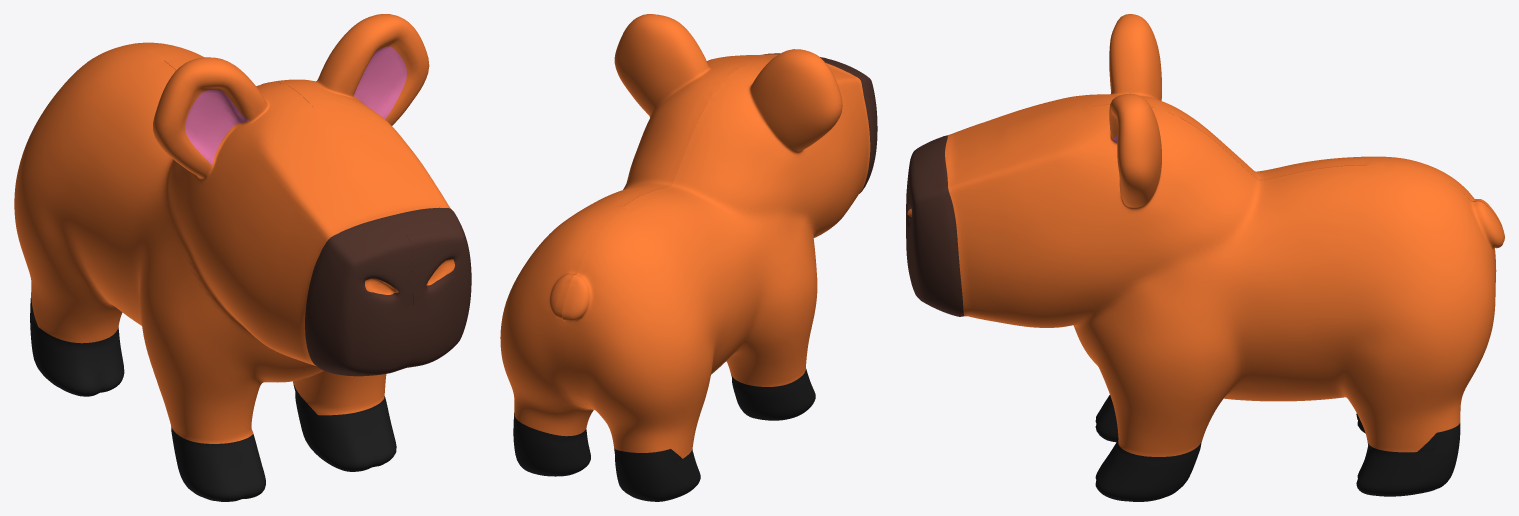
The model's file is Capivarada.fbx.
The picture shows the model from 3 angles, left to right: view 1: azimuth 30°, elevation 25°; view 2: azimuth 150°, elevation 25°; view 3: azimuth 270°, elevation 25°; orthographic projection. The views are drawn at different scales.
Visible parts, largest first — view 1: tripo_node_e47825a7; view 2: tripo_node_e47825a7; view 3: tripo_node_e47825a7.
Boxes of the visible parts, box(x1,y1,x2,y2) form: tripo_node_e47825a7: box(14, 14, 471, 501); tripo_node_e47825a7: box(500, 14, 877, 501); tripo_node_e47825a7: box(906, 14, 1504, 501).
Bounding box in the file's own units: 51.26 × 78.77 × 106.
